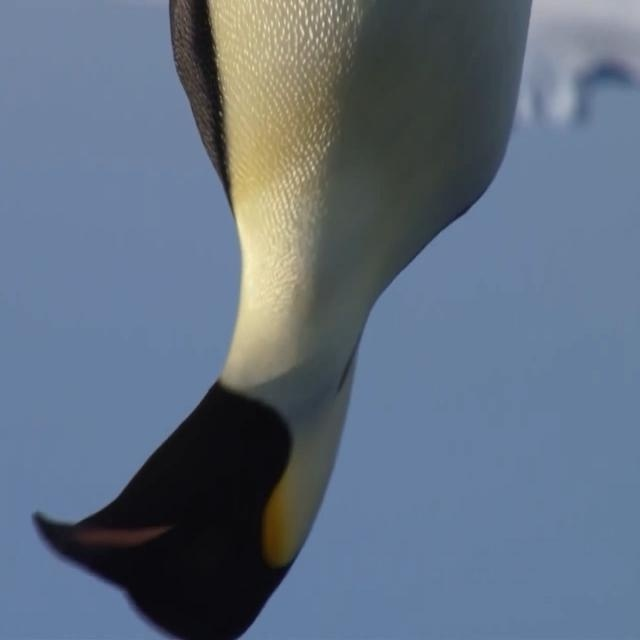penguin: (30, 4, 537, 638)
